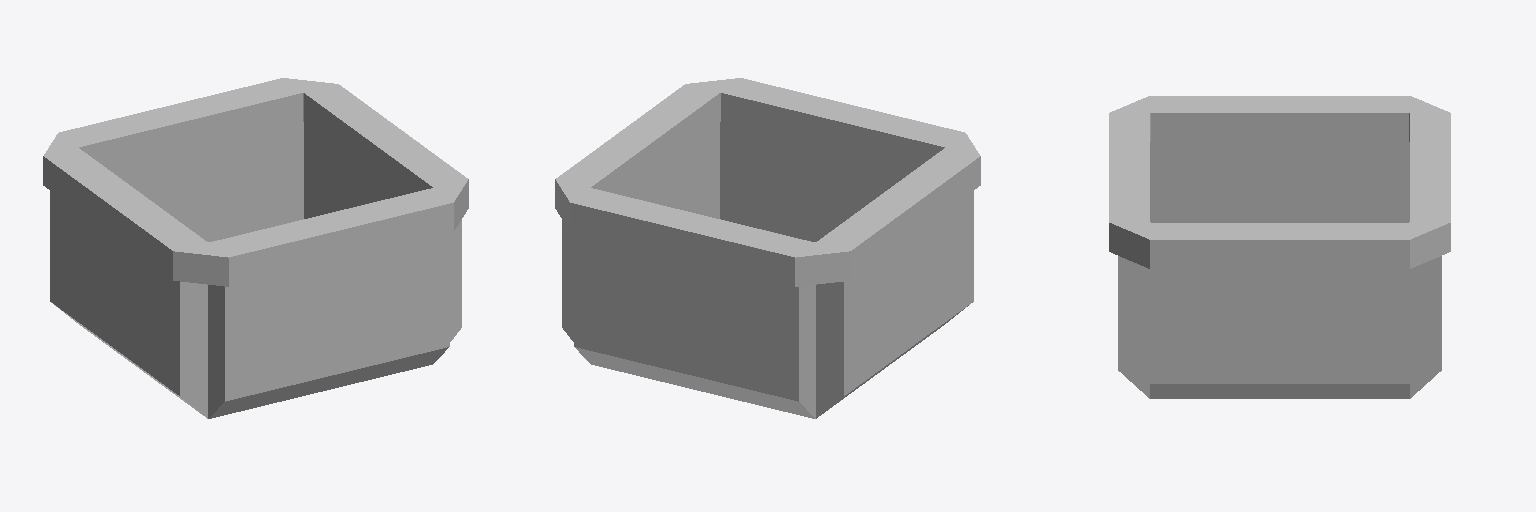
File: mortar.obj
3 renders of one model, left to right at view 1: azimuth 30°, elevation 25°; view 2: azimuth 150°, elevation 25°; view 3: azimuth 270°, elevation 25°, orthographic.
Bounding box in the file's own units: 0.6562 × 0.375 × 0.6562.